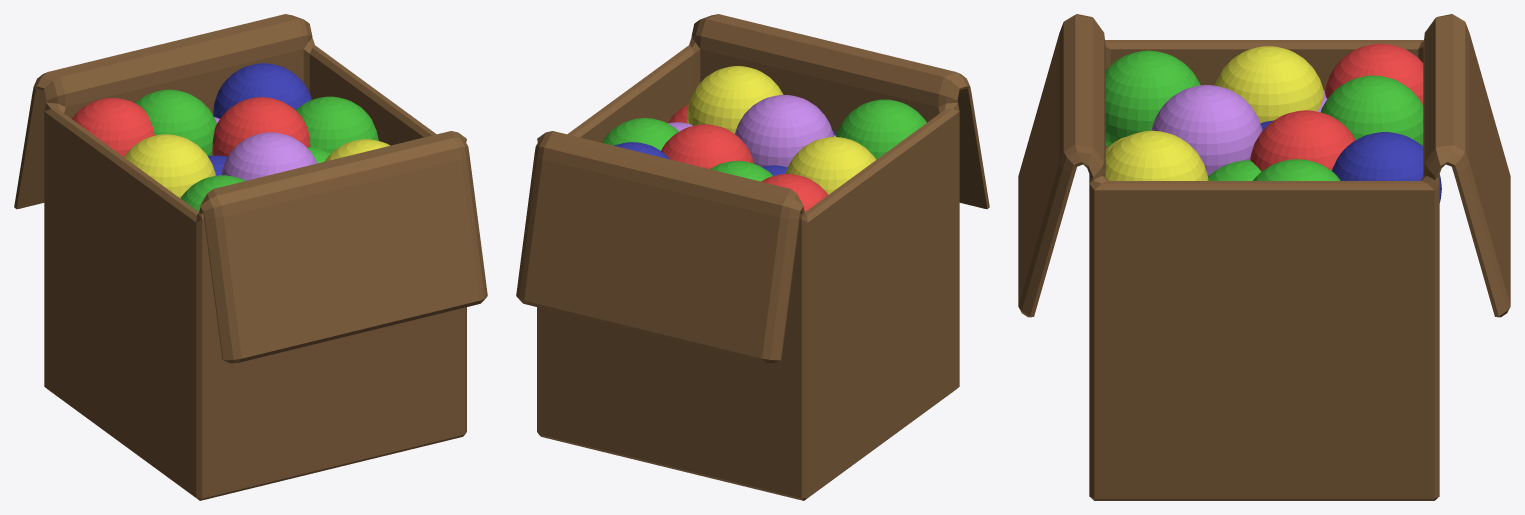
Rendered from Bouncy Balls.fbx.
3 views of the same model, side by side, from view 1: azimuth 30°, elevation 25°; view 2: azimuth 150°, elevation 25°; view 3: azimuth 270°, elevation 25° (orthographic). The views are drawn at different scales.
Visible parts, largest first — view 1: Box o Balls; view 2: Box o Balls; view 3: Box o Balls.
Boxes of the visible parts, left/top/right/bottom form: Box o Balls: left=14, top=14, right=487, bottom=500; Box o Balls: left=516, top=14, right=989, bottom=500; Box o Balls: left=1018, top=14, right=1510, bottom=500.
Bounding box in the file's own units: 584 × 634 × 816.
